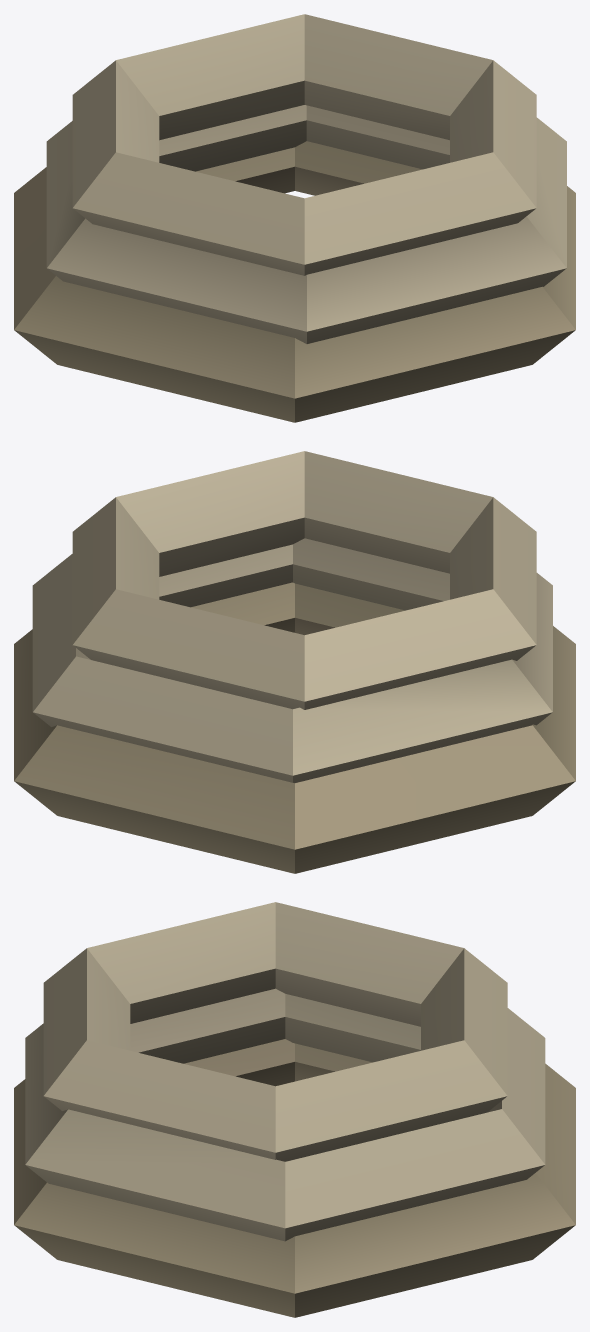
File: rope.lod2.glb
The picture shows the model from 3 angles, top to bottom: view 1: azimuth 30°, elevation 25°; view 2: azimuth 150°, elevation 25°; view 3: azimuth 270°, elevation 25°; orthographic projection.
Size of the model in its own units: 0.804 by 0.284 by 0.6962.
